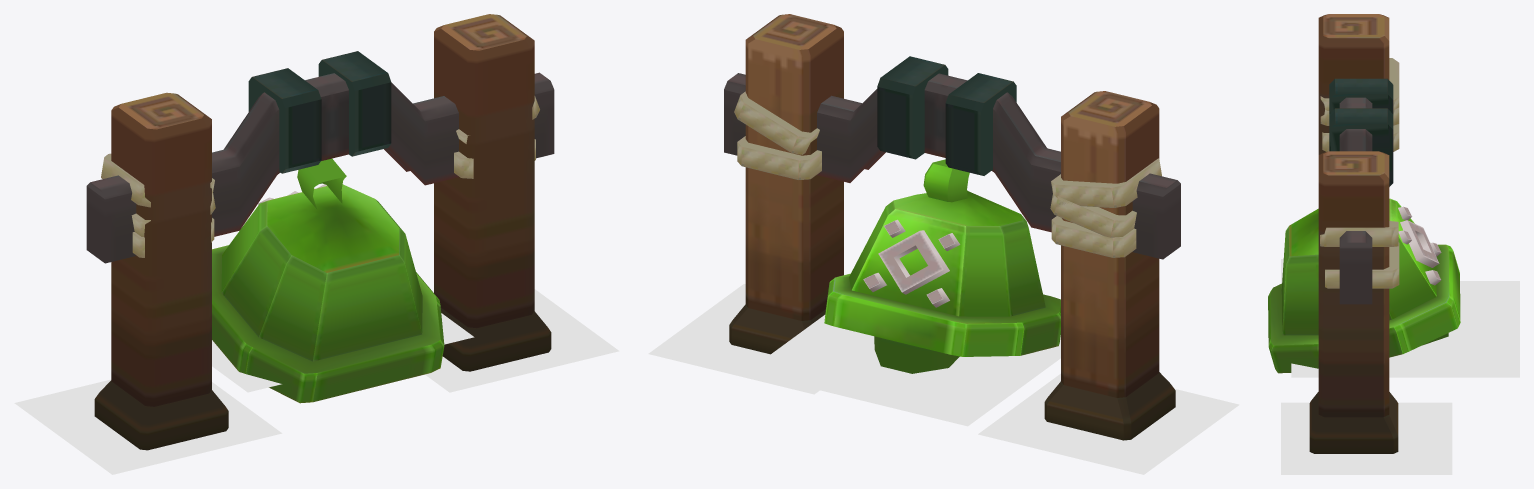
The model's file is [gimmick]bell_green.fbx.
The picture shows the model from 3 angles, left to right: view 1: azimuth 30°, elevation 25°; view 2: azimuth 150°, elevation 25°; view 3: azimuth 270°, elevation 25°; orthographic projection. The views are drawn at different scales.
Parts seen in each view (by area): view 1: [gimmick]bell_green, bell_green, shadow2, shadow1, shadow; view 2: [gimmick]bell_green, bell_green, shadow, shadow2, shadow1; view 3: [gimmick]bell_green, bell_green, shadow, shadow1.
Part boxes in pixels (<box>): [gimmick]bell_green: <box>86,14,554,450</box>; bell_green: <box>212,158,444,403</box>; shadow2: <box>14,379,282,474</box>; shadow1: <box>425,289,619,392</box>; shadow: <box>212,313,474,392</box>; [gimmick]bell_green: <box>724,14,1180,440</box>; bell_green: <box>824,159,1060,373</box>; shadow: <box>746,315,1060,426</box>; shadow2: <box>978,373,1239,474</box>; shadow1: <box>648,284,819,394</box>; [gimmick]bell_green: <box>1309,14,1399,453</box>; bell_green: <box>1268,198,1460,373</box>; shadow: <box>1291,281,1519,377</box>; shadow1: <box>1281,402,1452,474</box>.
Bounding box in the file's own units: 2.68 × 1.59 × 1.32.
Materials: 2 (2 with a texture image).
